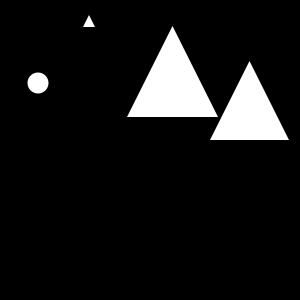rectangle: (28, 72, 49, 94)
triangle: (127, 26, 218, 117), (210, 61, 289, 140), (83, 15, 95, 27)
